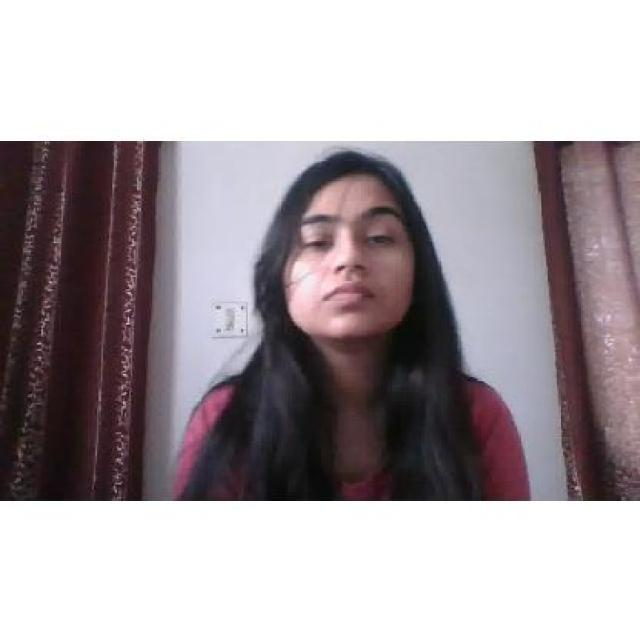inattentif: (275, 152, 414, 340)
